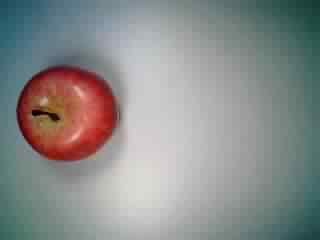apple: (17, 62, 121, 163)
